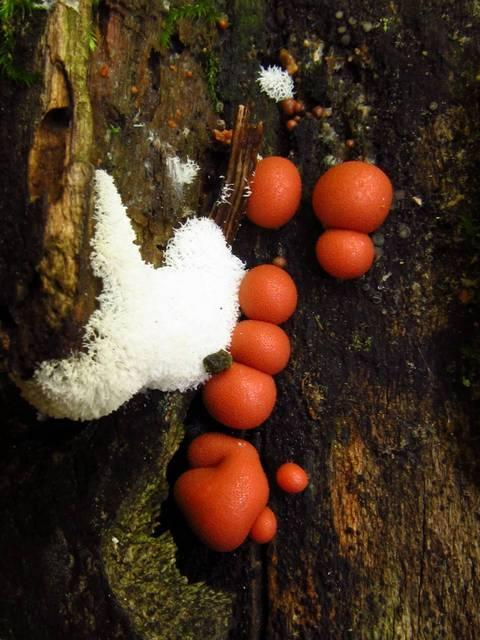Non-edible Mushroom: (15, 165, 248, 422), (172, 431, 270, 552), (311, 159, 393, 233), (255, 63, 295, 103)
